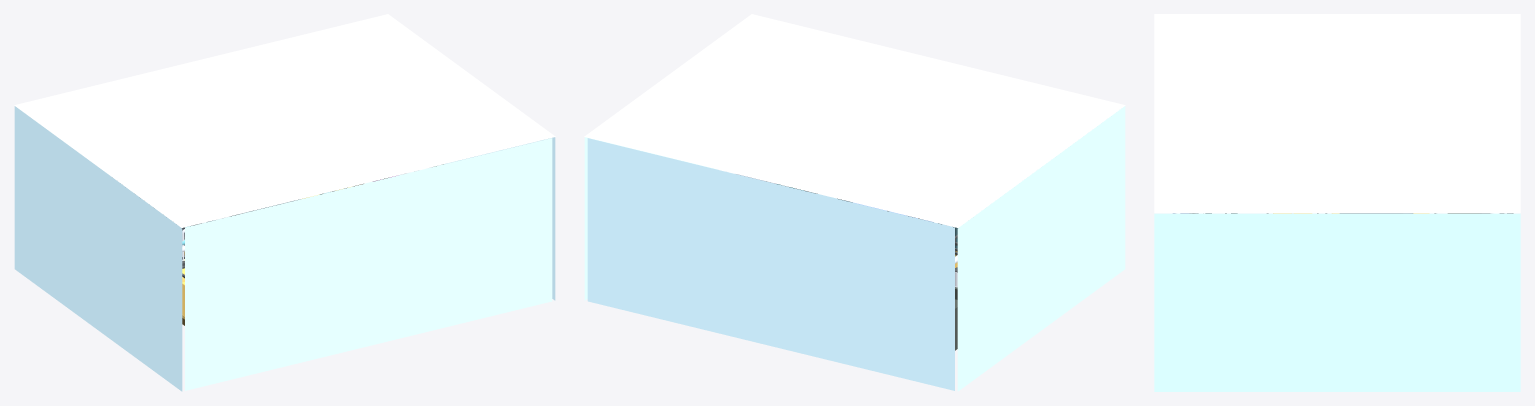
The model's file is plant_video.glb.
The picture shows the model from 3 angles, left to right: view 1: azimuth 30°, elevation 25°; view 2: azimuth 150°, elevation 25°; view 3: azimuth 270°, elevation 25°; orthographic projection. The views are drawn at different scales.
Visible parts, largest first — view 1: TONE_PANEL_ROOF, TONE_PANEL_S, TONE_PANEL_W, TONE_PANEL_E; view 2: TONE_PANEL_ROOF, TONE_PANEL_N, TONE_PANEL_W, TONE_PANEL_E; view 3: TONE_PANEL_ROOF, TONE_PANEL_E.
Boxes of the visible parts, left/top/right/bottom form: TONE_PANEL_ROOF: left=14, top=14, right=555, bottom=227; TONE_PANEL_S: left=185, top=138, right=552, bottom=390; TONE_PANEL_W: left=14, top=106, right=182, bottom=391; TONE_PANEL_E: left=399, top=137, right=555, bottom=300; TONE_PANEL_ROOF: left=584, top=14, right=1125, bottom=227; TONE_PANEL_N: left=587, top=138, right=954, bottom=390; TONE_PANEL_W: left=957, top=106, right=1125, bottom=391; TONE_PANEL_E: left=584, top=137, right=717, bottom=300; TONE_PANEL_ROOF: left=1154, top=14, right=1520, bottom=213; TONE_PANEL_E: left=1154, top=213, right=1520, bottom=391.
Size of the model in its own units: 13.18 by 5.52 by 10.24.
